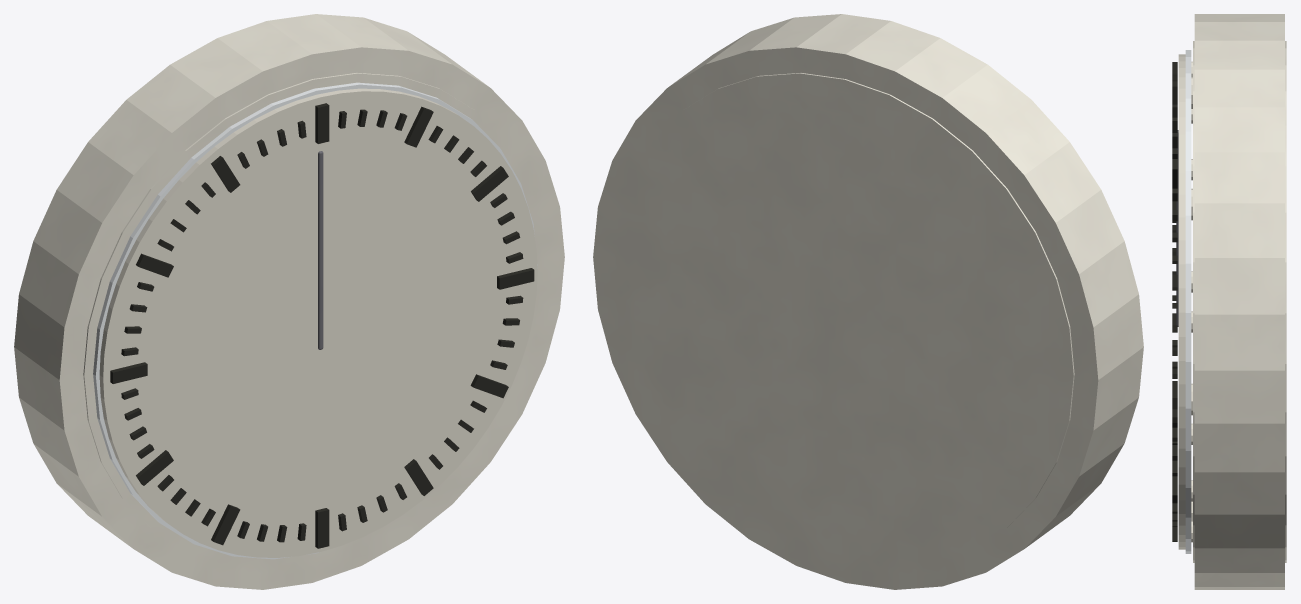
Rendered from PRP_WallClock.fbx.
3 renders of one model, left to right at view 1: azimuth 30°, elevation 25°; view 2: azimuth 150°, elevation 25°; view 3: azimuth 270°, elevation 25°, orthographic.
Parts seen in each view (by area): view 1: Clock_Body, Clock_Glass, Clock_Hand_S; view 2: Clock_Body; view 3: Clock_Body, Clock_Glass, Clock_Hand_S.
Boxes of the visible parts, x1,y1,x2,y2 form: Clock_Body: [14, 14, 564, 589]; Clock_Glass: [93, 82, 537, 559]; Clock_Hand_S: [318, 151, 323, 349]; Clock_Body: [593, 14, 1143, 589]; Clock_Body: [1172, 14, 1286, 589]; Clock_Glass: [1185, 50, 1191, 553]; Clock_Hand_S: [1176, 130, 1178, 326].
Bounding box in the file's own units: 32 × 32 × 6.35.
